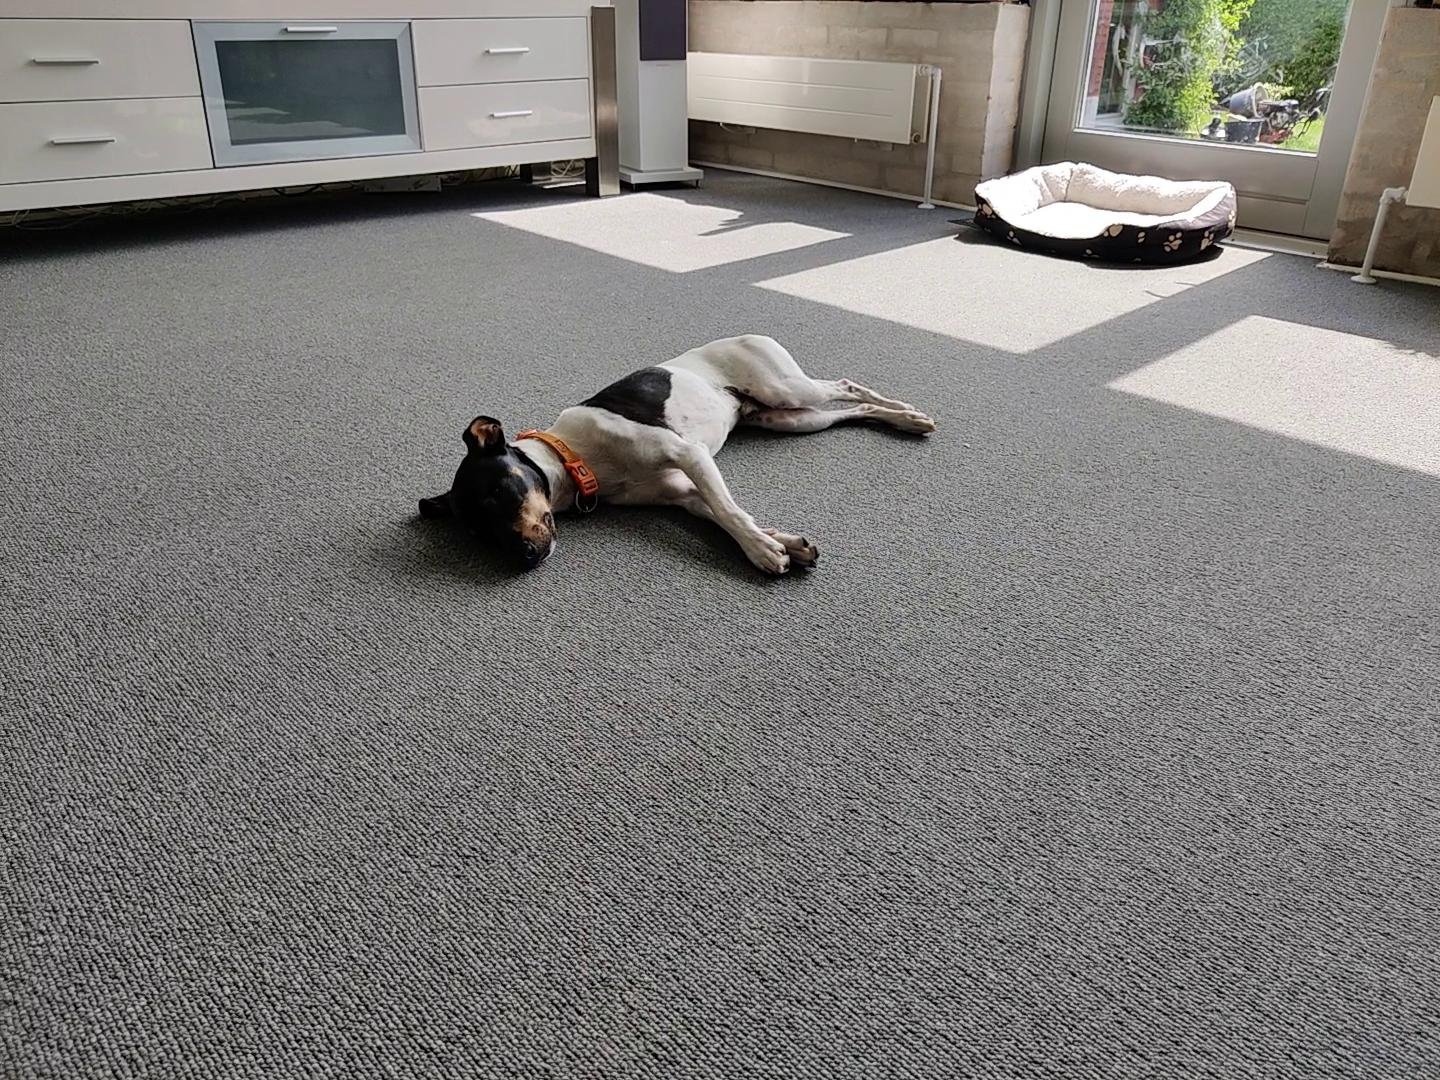Dog: (416, 329, 937, 576)
